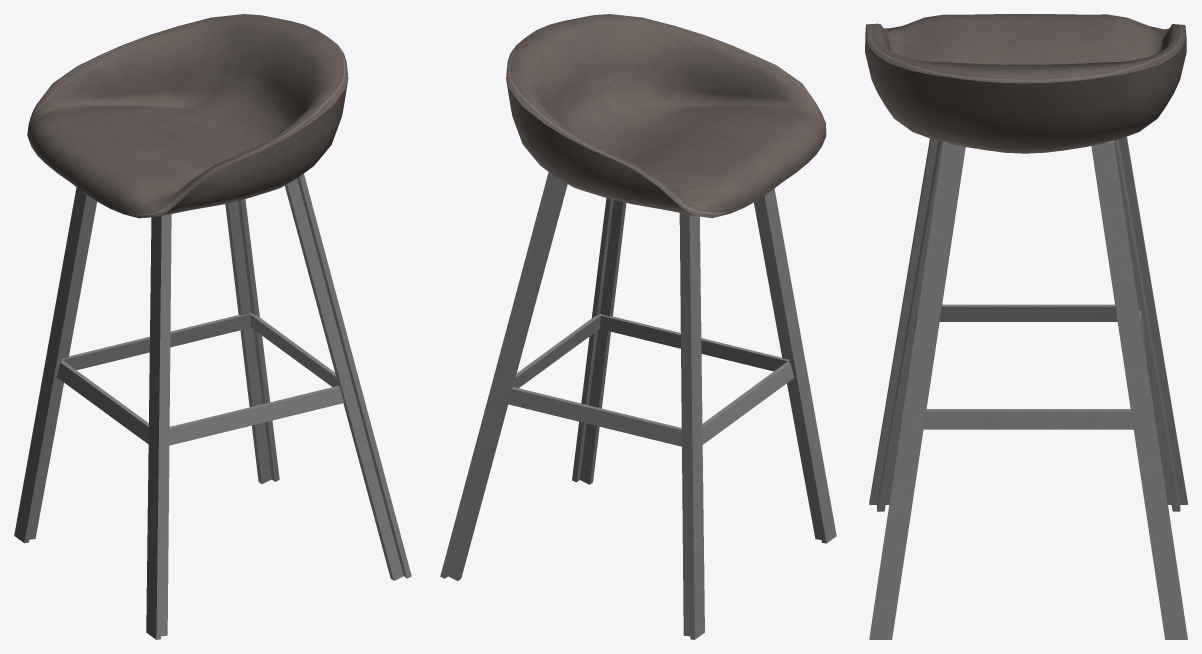
The model's file is SM_Chair_A1.fbx.
3 views of the same model, side by side, from view 1: azimuth 30°, elevation 25°; view 2: azimuth 150°, elevation 25°; view 3: azimuth 270°, elevation 25° (orthographic). The views are drawn at different scales.
Visible parts, largest first — view 1: SM_Chair_A1; view 2: SM_Chair_A1; view 3: SM_Chair_A1.
Part boxes in pixels (box(x1,y1,x2,y2)): SM_Chair_A1: box(14, 14, 411, 639); SM_Chair_A1: box(440, 14, 836, 639); SM_Chair_A1: box(865, 14, 1187, 639).
Size of the model in its own units: 47.46 by 43.5 by 82.83.
Materials: 1 (1 with a texture image).
